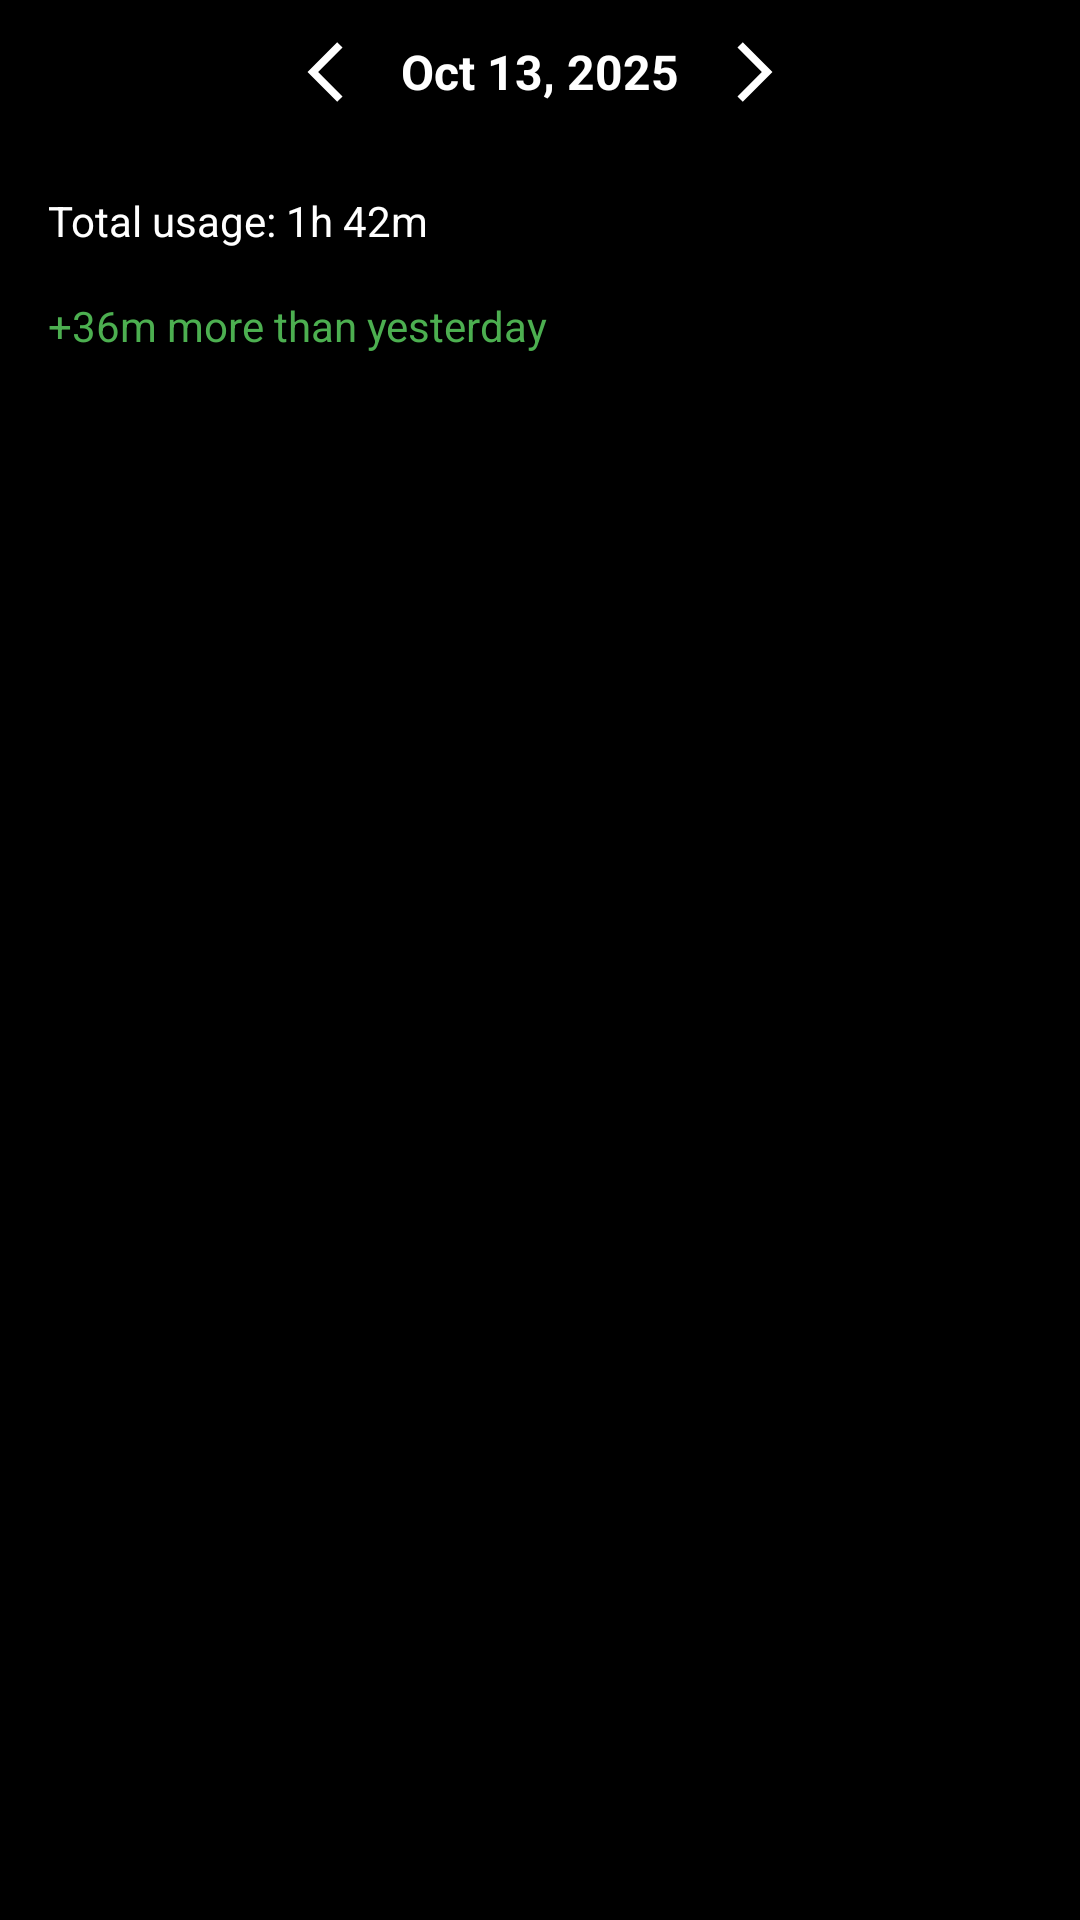

Icons on this 1080*1920 Android screen, each with the point to tap as point (x, y):
Next week: point (755, 72)
Previous week: point (325, 72)
